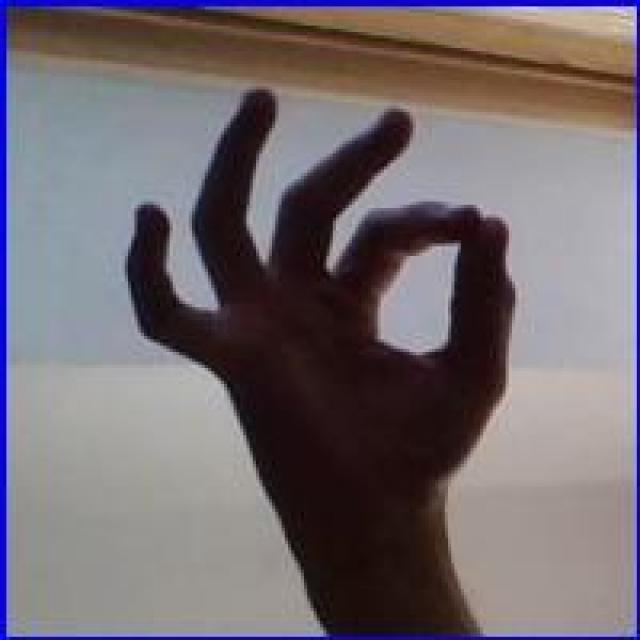F: (98, 83, 523, 538)
